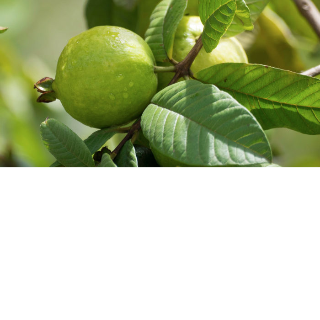oi: (49, 22, 167, 134)
